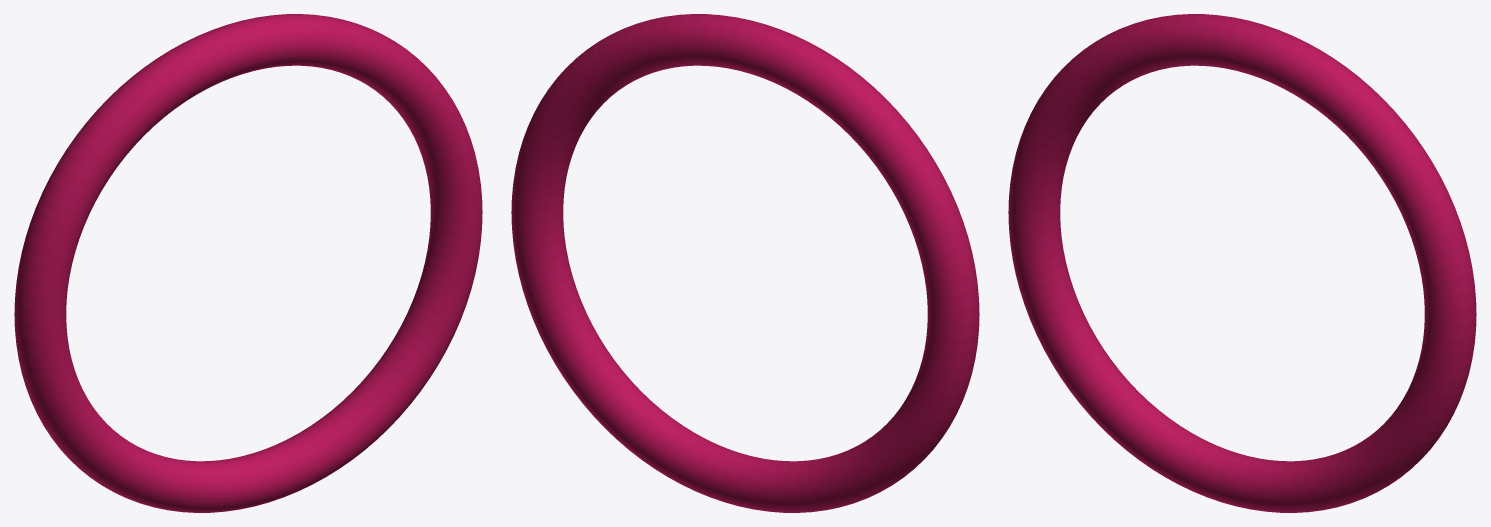
3 renders of one model, left to right at view 1: azimuth 30°, elevation 25°; view 2: azimuth 150°, elevation 25°; view 3: azimuth 330°, elevation 25°, orthographic.
Visible parts, largest first — view 1: world; view 2: world; view 3: world.
Boxes of the visible parts, left/top/right/bottom form: world: left=14, top=14, right=482, bottom=512; world: left=511, top=14, right=979, bottom=512; world: left=1008, top=14, right=1476, bottom=512.
Size of the model in its own units: 28.8 by 28.8 by 2.79.
